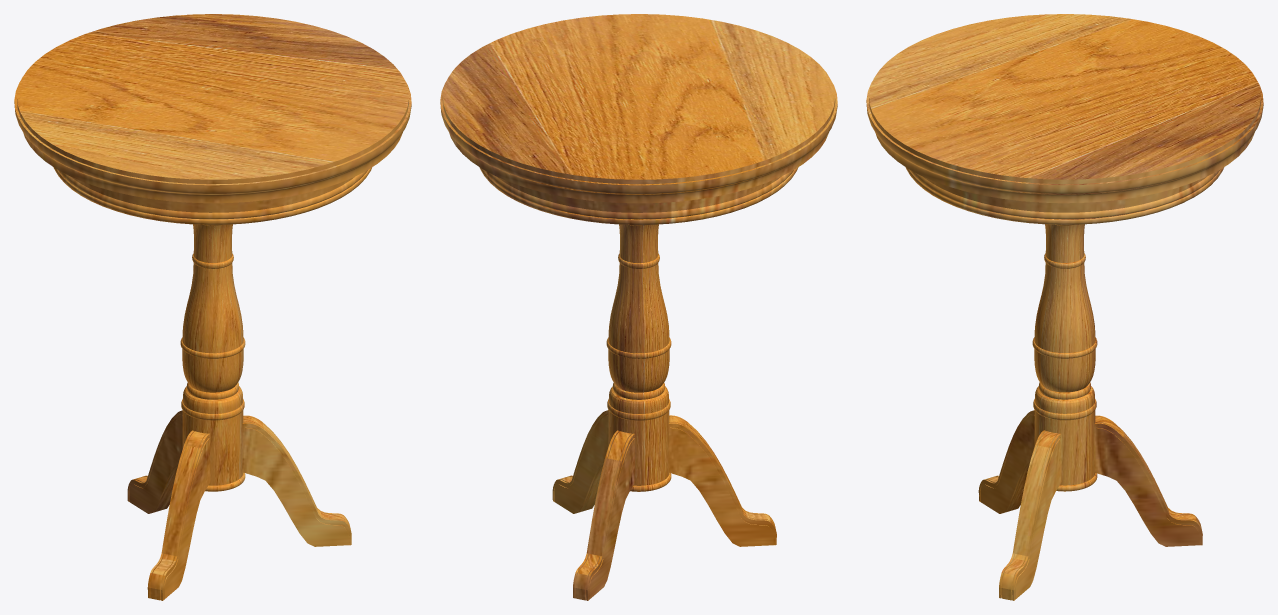
File: provaroundtable120x120x150cm.gltf
The picture shows the model from 3 angles, left to right: view 1: azimuth 30°, elevation 25°; view 2: azimuth 150°, elevation 25°; view 3: azimuth 270°, elevation 25°; orthographic projection.
Visible parts, largest first — view 1: mesh_2; view 2: mesh_2; view 3: mesh_2.
Boxes of the visible parts, x1=… form: mesh_2: x1=14, y1=14, x2=411, y2=600; mesh_2: x1=440, y1=14, x2=837, y2=600; mesh_2: x1=866, y1=14, x2=1263, y2=600.
Size of the model in its own units: 120 by 150 by 120.
Materials: 1 (1 with a texture image).
